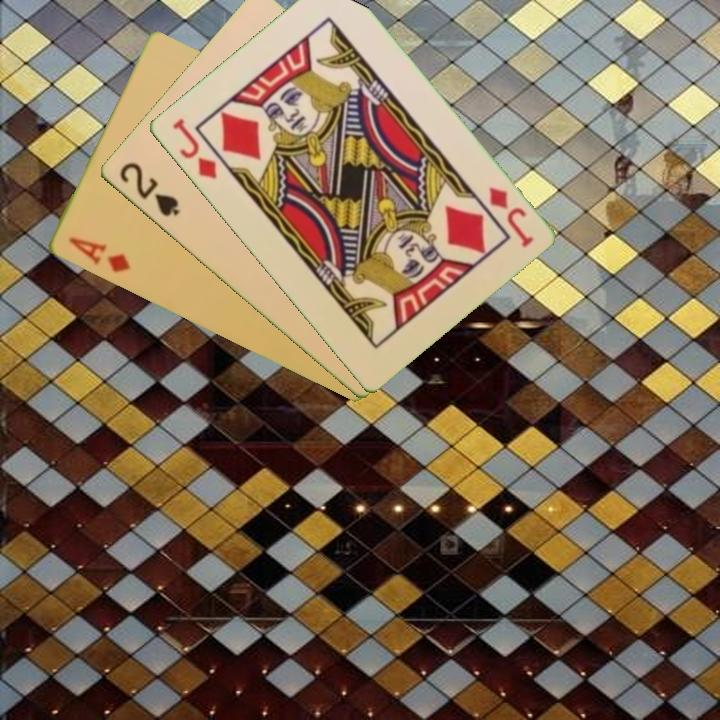2s: (115, 159, 182, 220)
Ad: (64, 233, 133, 276)
Jd: (484, 183, 536, 250), (168, 115, 219, 183)
